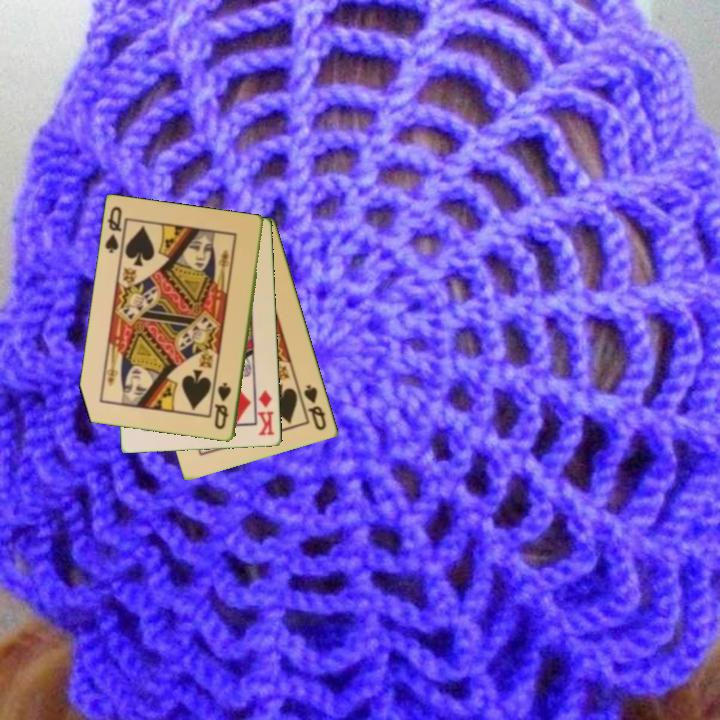Kd: (254, 387, 277, 438)
Qs: (102, 203, 129, 259), (301, 381, 330, 433), (211, 379, 234, 432)
